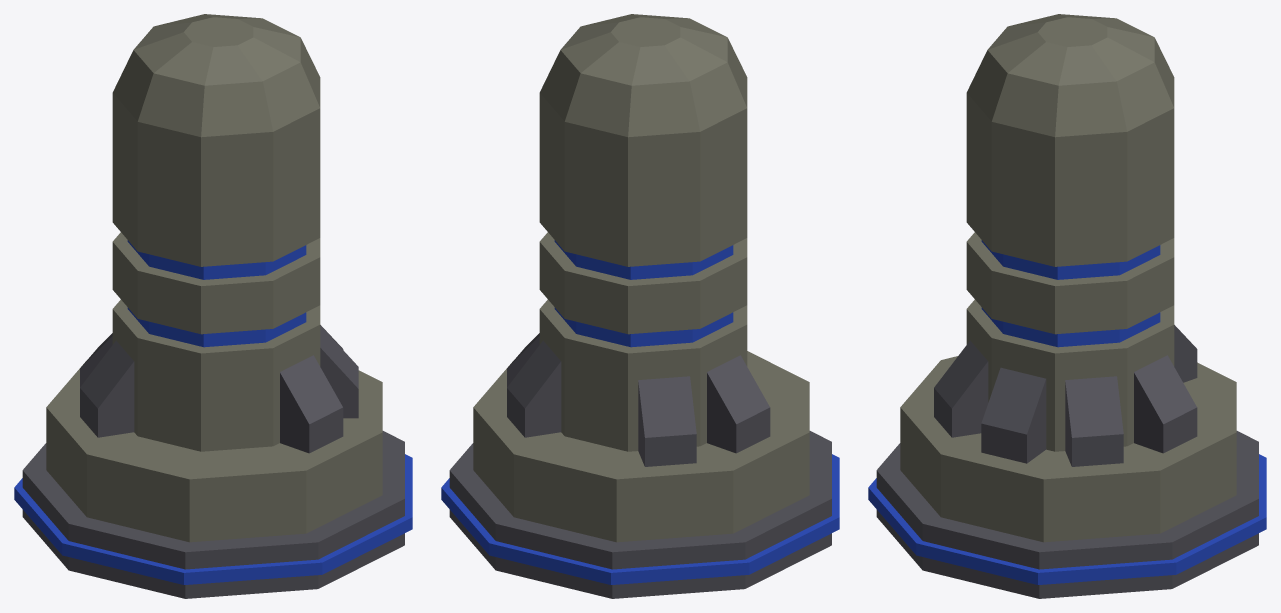
The model's file is LPSciFiCharacter_MachineryB.fbx.
3 renders of one model, left to right at view 1: azimuth 30°, elevation 25°; view 2: azimuth 150°, elevation 25°; view 3: azimuth 270°, elevation 25°, orthographic.
Visible parts, largest first — view 1: MachineryB; view 2: MachineryB; view 3: MachineryB.
Boxes of the visible parts, left/top/right/bottom form: MachineryB: left=14, top=14, right=412, bottom=598; MachineryB: left=441, top=14, right=839, bottom=598; MachineryB: left=868, top=14, right=1266, bottom=598.
Size of the model in its own units: 167 by 221 by 165.
